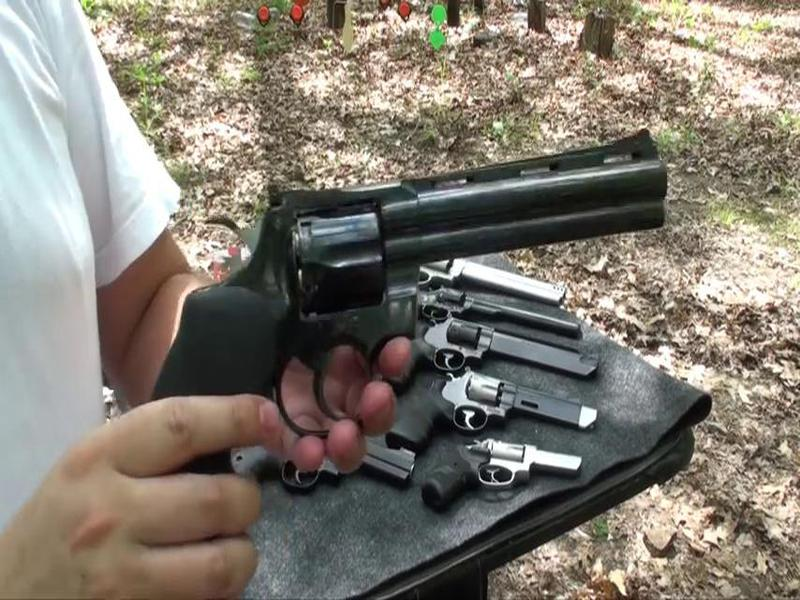Revolver: (153, 137, 677, 444)
